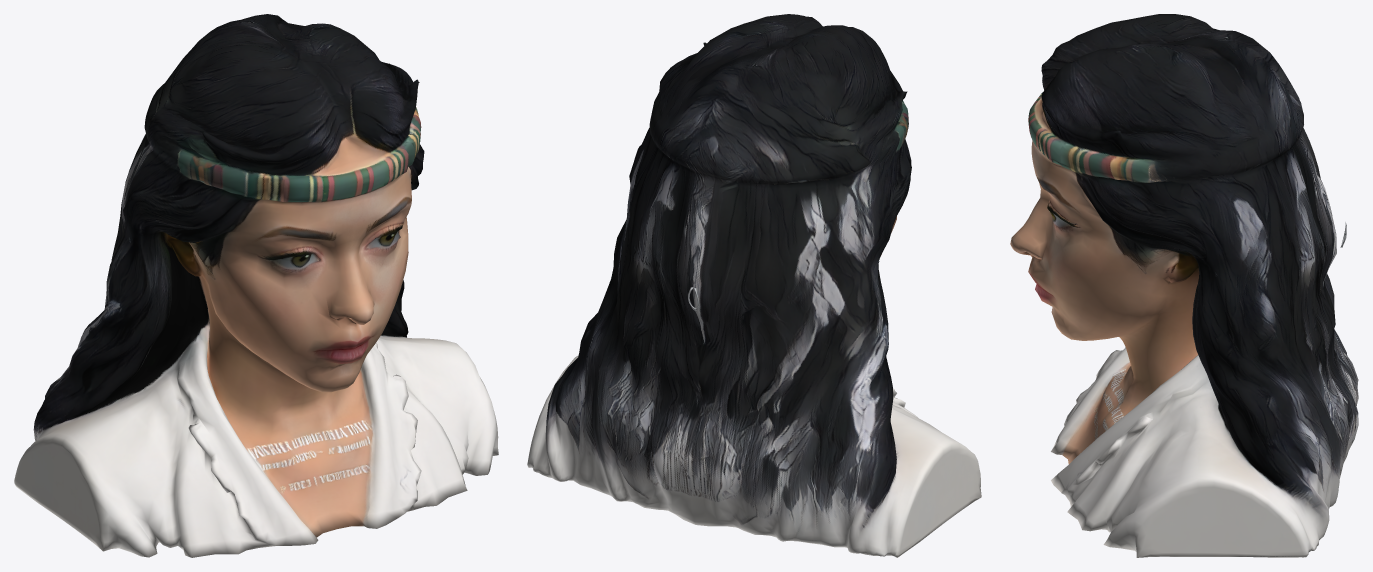
File: marthacrishina.glb
The picture shows the model from 3 angles, left to right: view 1: azimuth 30°, elevation 25°; view 2: azimuth 150°, elevation 25°; view 3: azimuth 270°, elevation 25°; orthographic projection. The views are drawn at different scales.
Visible parts, largest first — view 1: model; view 2: model; view 3: model.
Part boxes in pixels (x1,y1,x2,y2): model: (14,14,498,557); model: (527,14,981,557); model: (1010,14,1358,557).
Bounding box in the file's own units: 1.74 × 1.9 × 1.39.
Materials: 1 (1 with a texture image).
